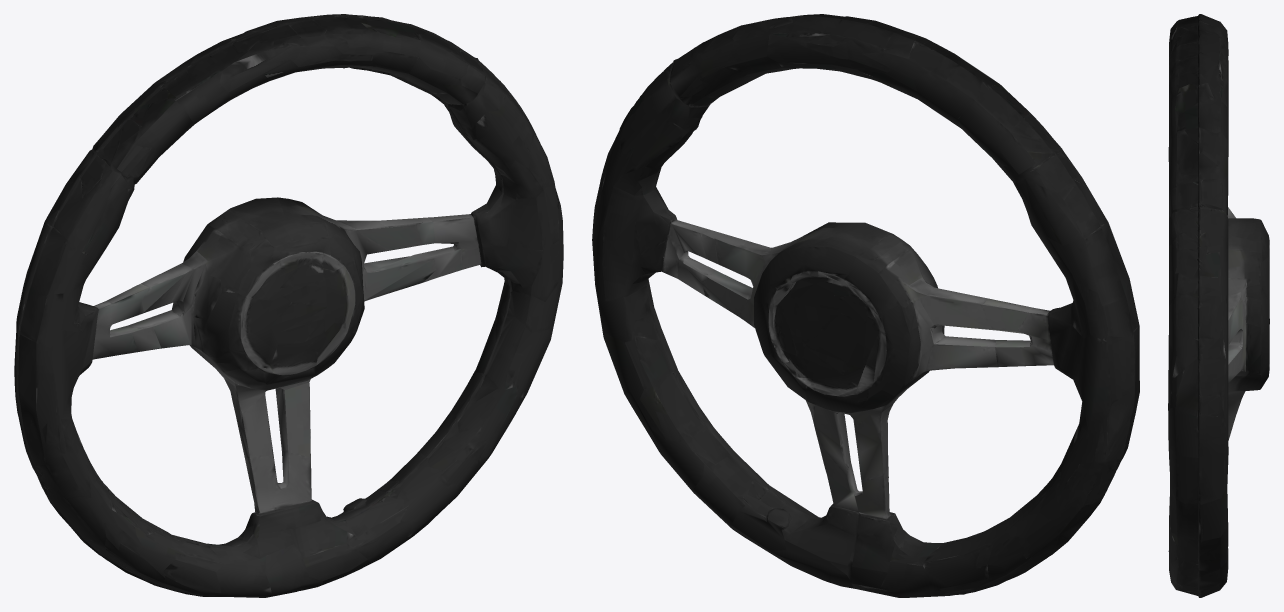
Rendered from volant.glb.
3 views of the same model, side by side, from view 1: azimuth 30°, elevation 25°; view 2: azimuth 150°, elevation 25°; view 3: azimuth 270°, elevation 25° (orthographic). The views are drawn at different scales.
Size of the model in its own units: 1.89 by 1.89 by 0.3291.
Materials: 1 (1 with a texture image).
